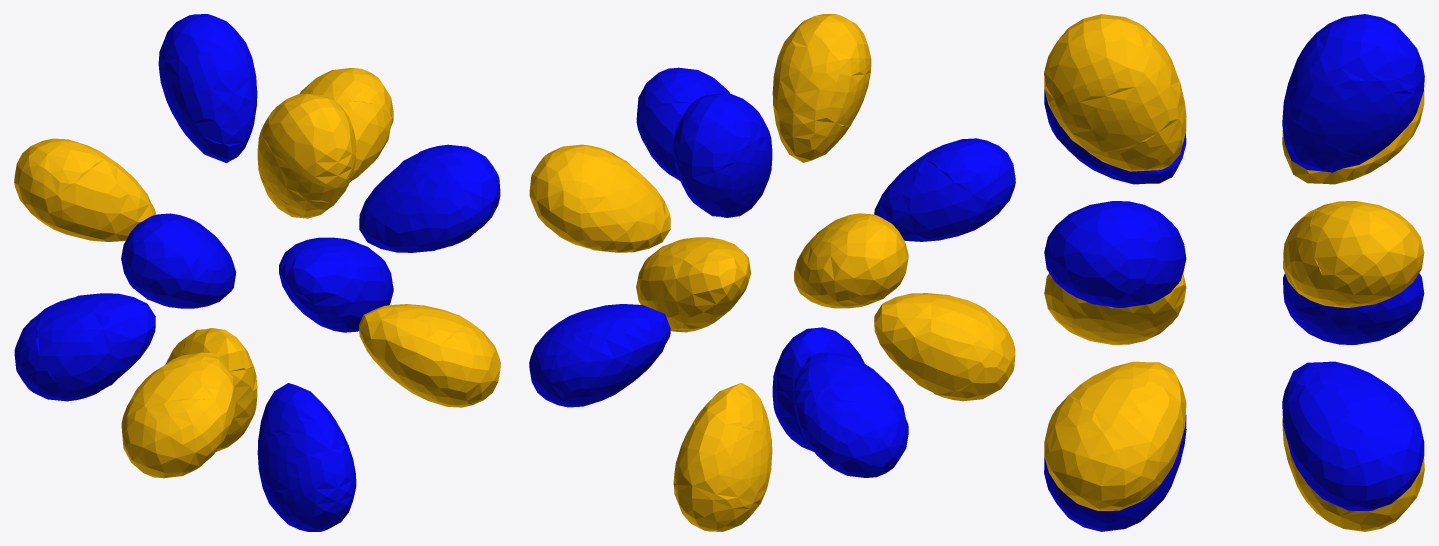
The picture shows the model from 3 angles, left to right: view 1: azimuth 30°, elevation 25°; view 2: azimuth 150°, elevation 25°; view 3: azimuth 270°, elevation 25°; orthographic projection. The views are drawn at different scales.
Bounding box in the file's own units: 24.94 × 28.06 × 19.02.
